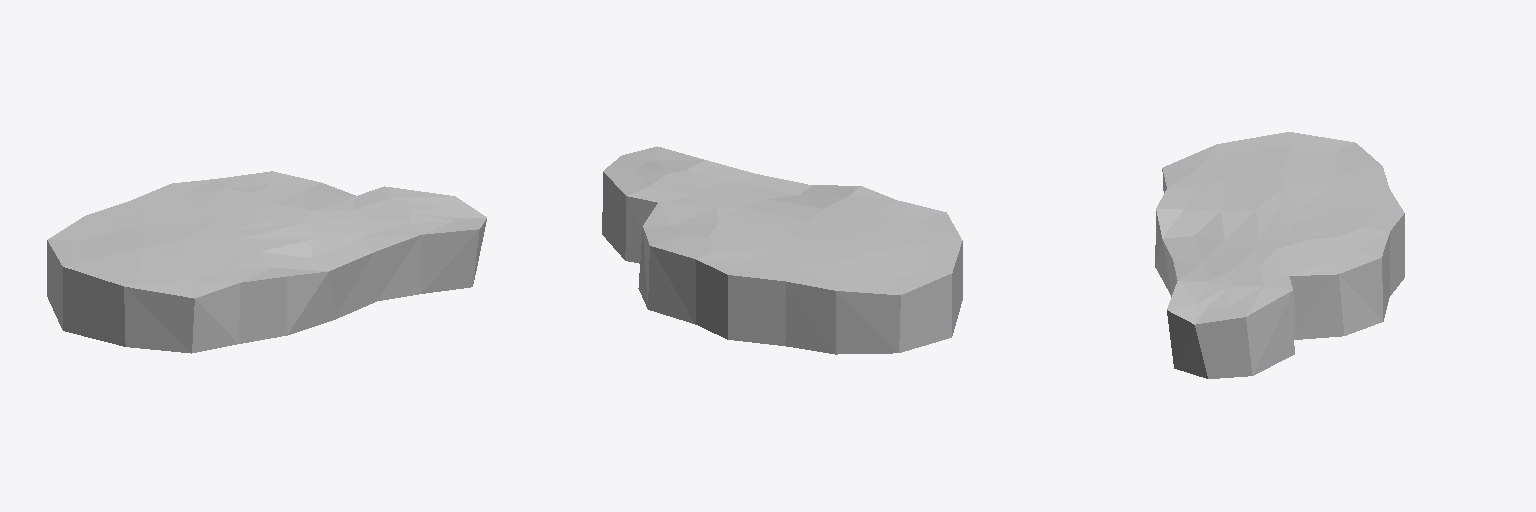
File: Meat.obj
The picture shows the model from 3 angles: view 1: azimuth 30°, elevation 25°; view 2: azimuth 150°, elevation 25°; view 3: azimuth 270°, elevation 25°; orthographic projection.
Visible parts, largest first — view 1: Meat; view 2: Meat; view 3: Meat.
Boxes of the visible parts, <box> form: Meat: <box>47,171,486,353</box>; Meat: <box>602,146,962,354</box>; Meat: <box>1155,132,1404,378</box>.
Bounding box in the file's own units: 0.3175 × 0.0543 × 0.1817.